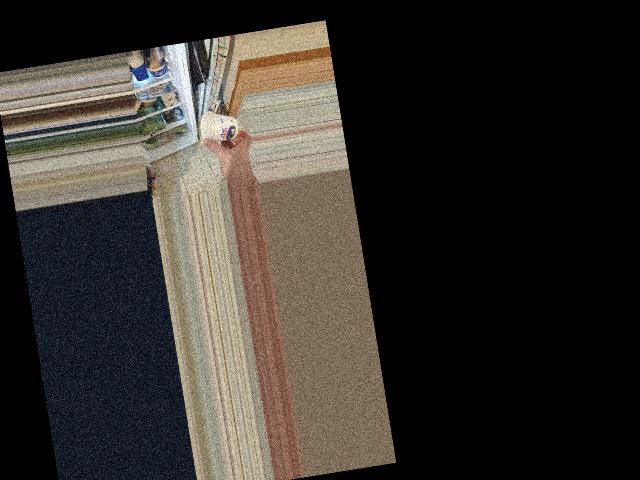cotage: (198, 108, 240, 147)
